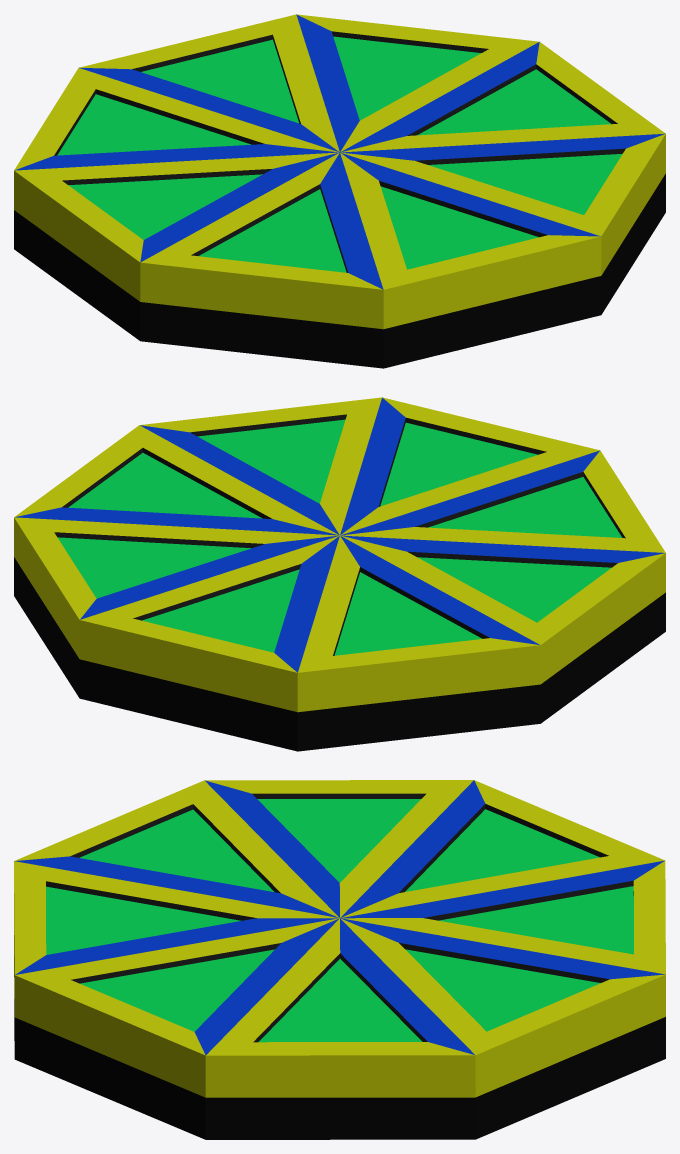
Rendered from spawner0.obj.
The picture shows the model from 3 angles, top to bottom: view 1: azimuth 30°, elevation 25°; view 2: azimuth 150°, elevation 25°; view 3: azimuth 270°, elevation 25°; orthographic projection. The views are drawn at different scales.
Parts seen in each view (by area): view 1: Cone; view 2: Cone; view 3: Cone.
Part boxes in pixels (x1,y1,x2,y2): Cone: (14, 14, 665, 368); Cone: (14, 397, 665, 751); Cone: (14, 780, 665, 1139).
Size of the model in its own units: 1.85 by 0.264 by 1.85.
